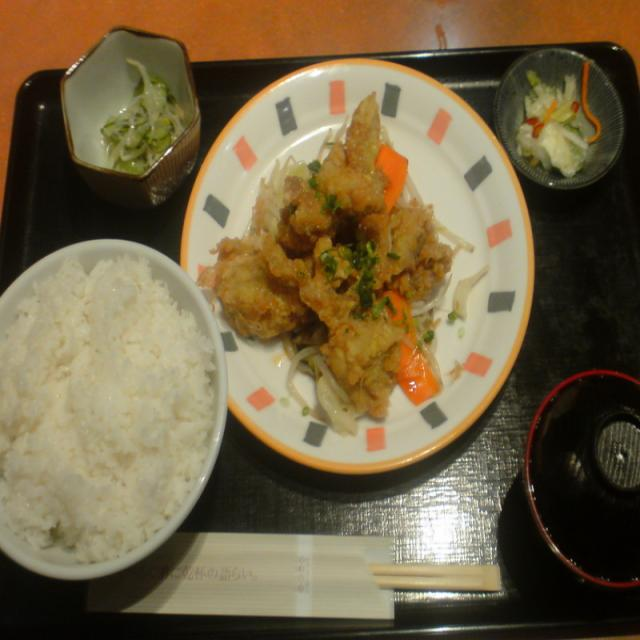rice: (20, 287, 174, 538)
